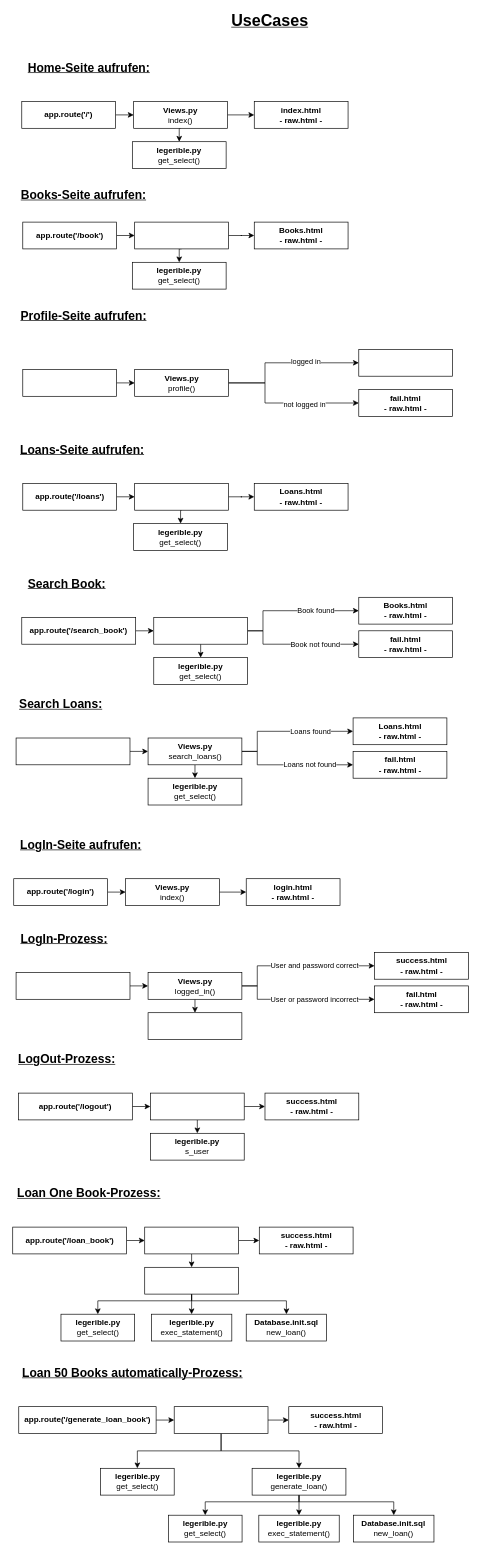
Image size: 480x1554. Some labels were removed from this diagram. Here are the shapes that lost their labels. From the top down, the centre of each, then its label:
At pixel 181 235: "Views.py book()".
At pixel 69 382: "app.route('/profile')".
At pixel 405 362: "profile.html - raw.html -".
At pixel 181 496: "Views.py loans()".
At pixel 200 630: "Views.py search_books()".
At pixel 72 751: "app.route('/search_loans')".
At pixel 72 985: "app.route('/logged_in')".
At pixel 194 1026: "legerible.py set_user()".
At pixel 197 1106: "Views.py logout()".
At pixel 191 1240: "Views.py loan_book()".
At pixel 191 1280: "legerible.py make_loan()".
At pixel 221 1419: "Views.py generate_loan_book()".
